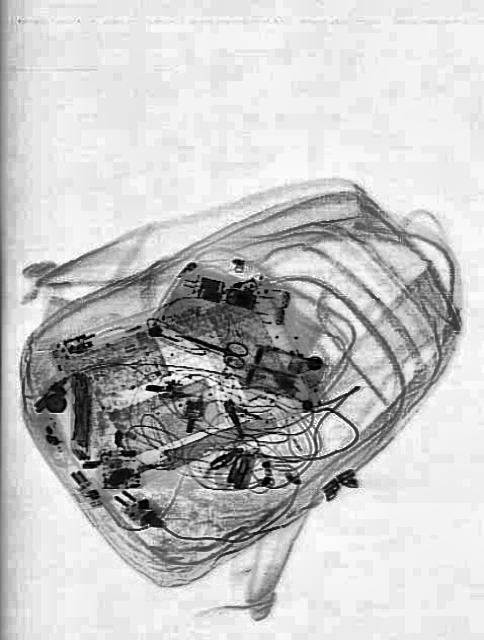Scissors: (178, 322, 250, 372)
